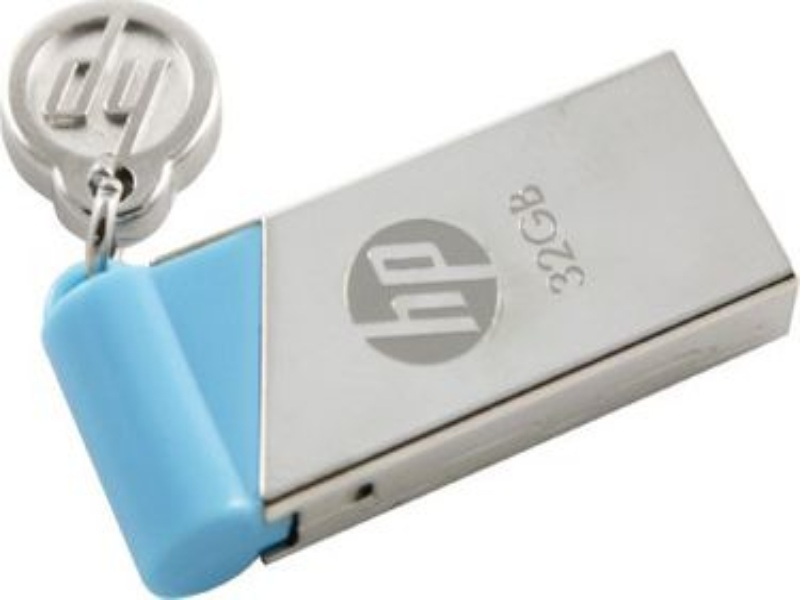hp: (45, 15, 179, 168), (342, 234, 506, 358)
